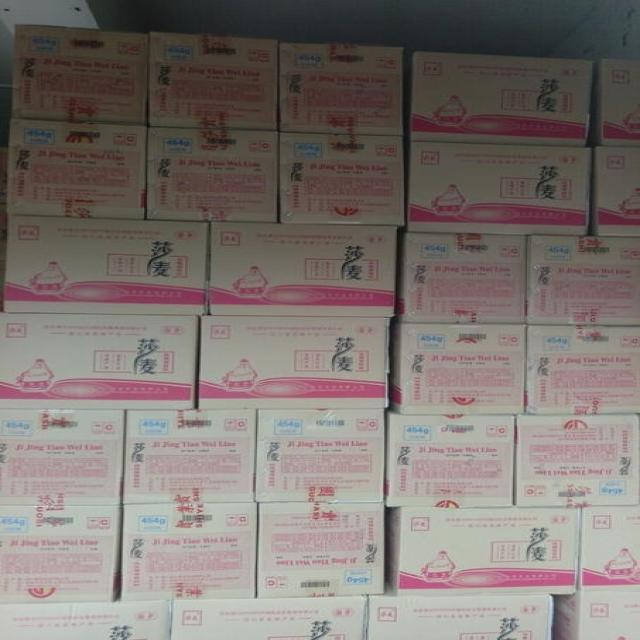box: (3, 213, 211, 315), (0, 314, 199, 411), (199, 315, 389, 411), (208, 222, 398, 316), (405, 140, 592, 235), (386, 507, 582, 596), (410, 51, 592, 146), (6, 116, 147, 220), (11, 23, 150, 124), (119, 504, 257, 601), (144, 126, 280, 223), (389, 324, 527, 416), (148, 33, 277, 131), (122, 411, 256, 505), (254, 411, 387, 503), (386, 412, 513, 508), (257, 503, 384, 598), (277, 41, 404, 135), (396, 232, 527, 323), (514, 414, 640, 507), (0, 411, 124, 505), (0, 507, 120, 604), (280, 132, 405, 225), (526, 235, 640, 326), (526, 326, 640, 415), (168, 597, 366, 640), (366, 595, 554, 640), (1, 603, 170, 640), (576, 507, 640, 590), (591, 147, 640, 237), (593, 60, 640, 148), (558, 591, 640, 640)
